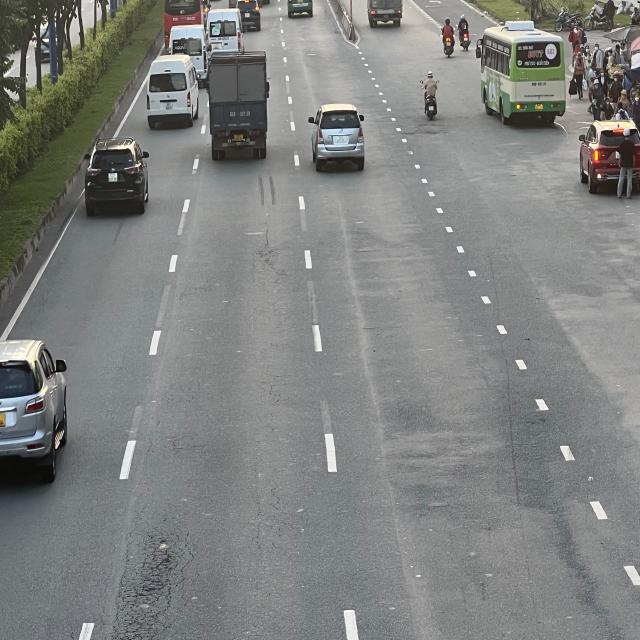car: (0, 340, 70, 480), (85, 142, 152, 218), (578, 121, 640, 195), (311, 106, 369, 172), (238, 0, 262, 30)
coach: (475, 28, 567, 124), (164, 1, 205, 40)
truck: (206, 50, 268, 158)
van: (145, 54, 198, 127), (168, 24, 206, 80), (202, 8, 242, 58)
